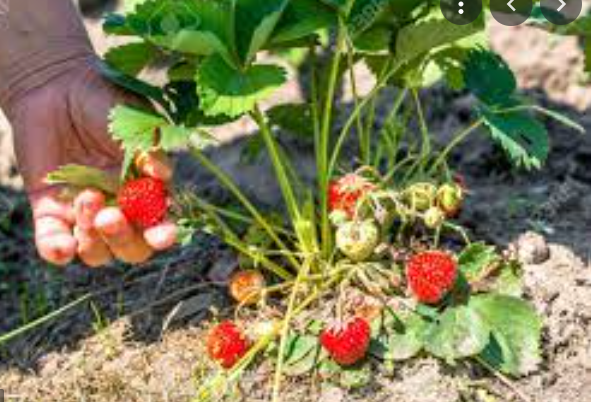ripe: (112, 178, 174, 230), (317, 311, 372, 368), (407, 248, 458, 305), (207, 318, 256, 370), (326, 172, 376, 217), (226, 269, 273, 306), (435, 180, 465, 219)
unripe: (334, 217, 381, 262)
